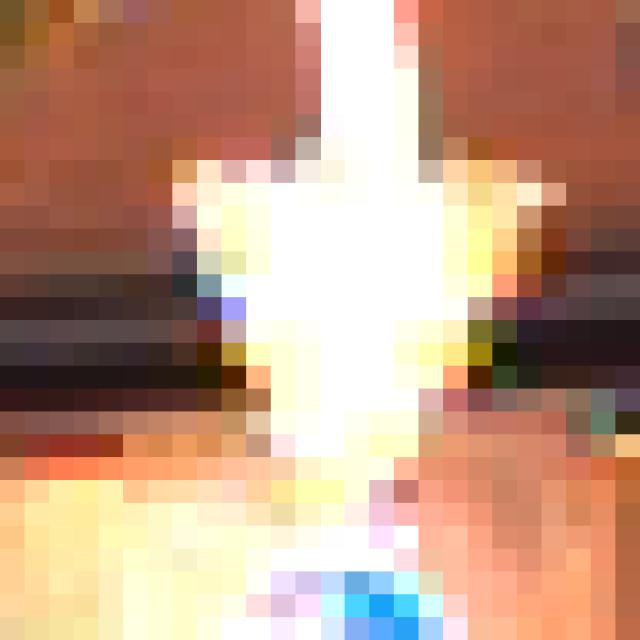Give Way: (149, 138, 518, 527)
